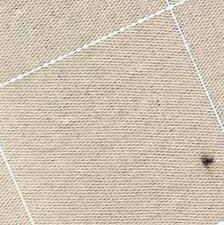stain: (200, 148, 218, 174)
